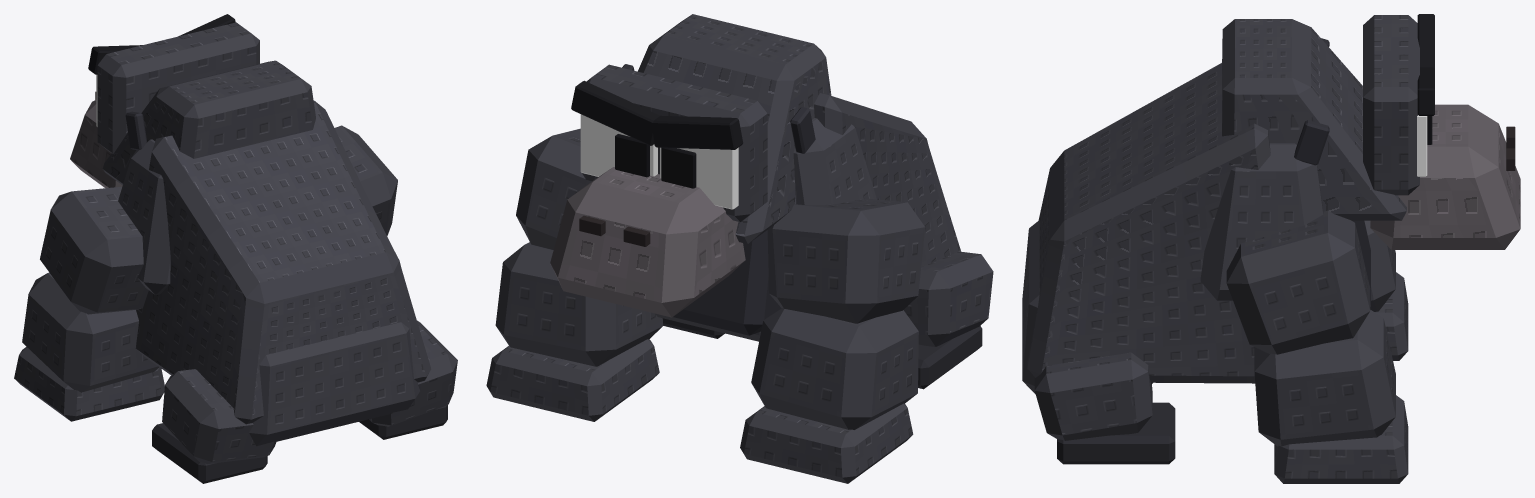
The model's file is Gorilla.glb.
3 renders of one model, left to right at view 1: azimuth 30°, elevation 25°; view 2: azimuth 150°, elevation 25°; view 3: azimuth 270°, elevation 25°, orthographic. The views are drawn at different scales.
Parts seen in each view (by area): view 1: Gorilla; view 2: Gorilla; view 3: Gorilla.
Boxes of the visible parts, x1=… form: Gorilla: x1=14, y1=14, x2=457, y2=483; Gorilla: x1=486, y1=14, x2=993, y2=483; Gorilla: x1=1022, y1=14, x2=1520, y2=483.
Bounding box in the file's own units: 9.49 × 8.48 × 10.95.
1 material, 1 textured.
